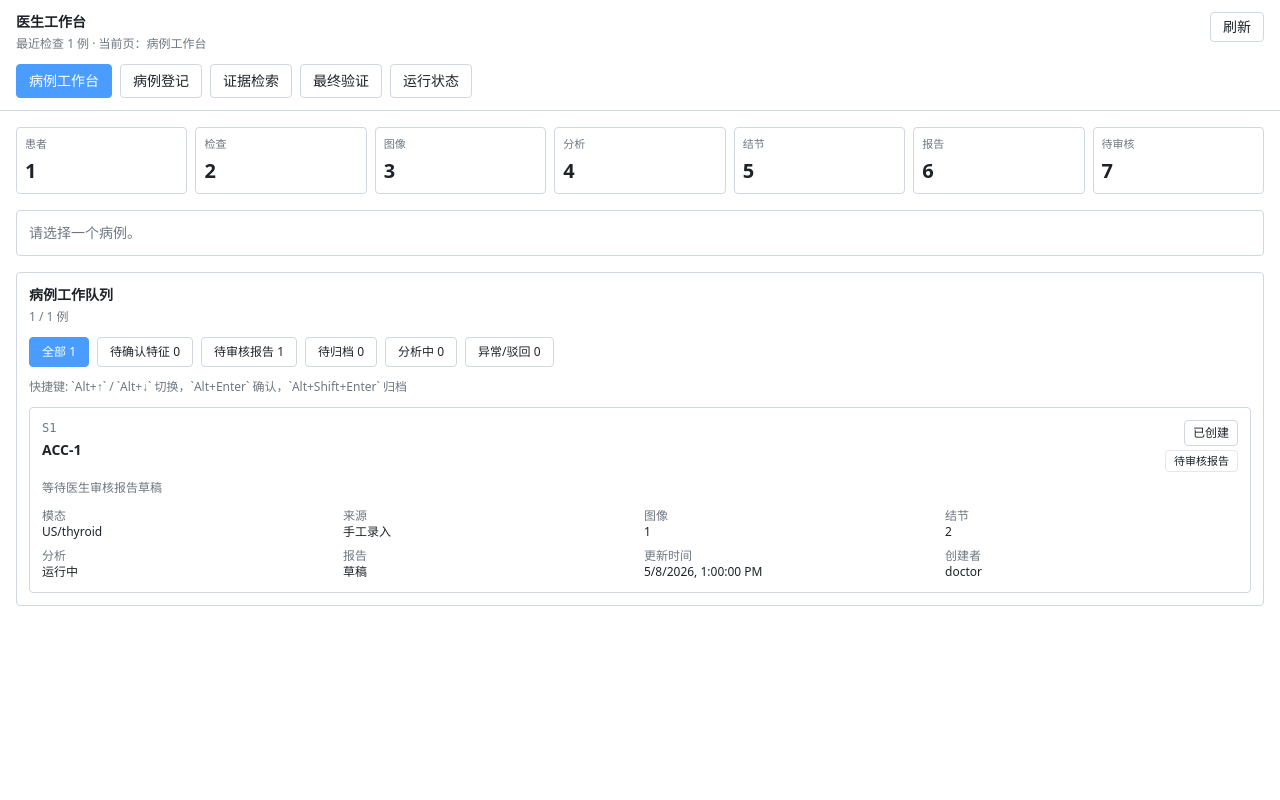
MedicalPanel › loads medical summary and shows counts, queues, and recent studies
The image size is (1280, 800).
Expected: the heading "医生工作台" is shown, x1=16 y1=12 x2=86 y2=31
Expected: the heading "病例工作队列" is shown, x1=29 y1=284 x2=113 y2=304
Step 1. Click the button "运行状态" → (431, 81), box x1=390 y1=64 x2=472 y2=98
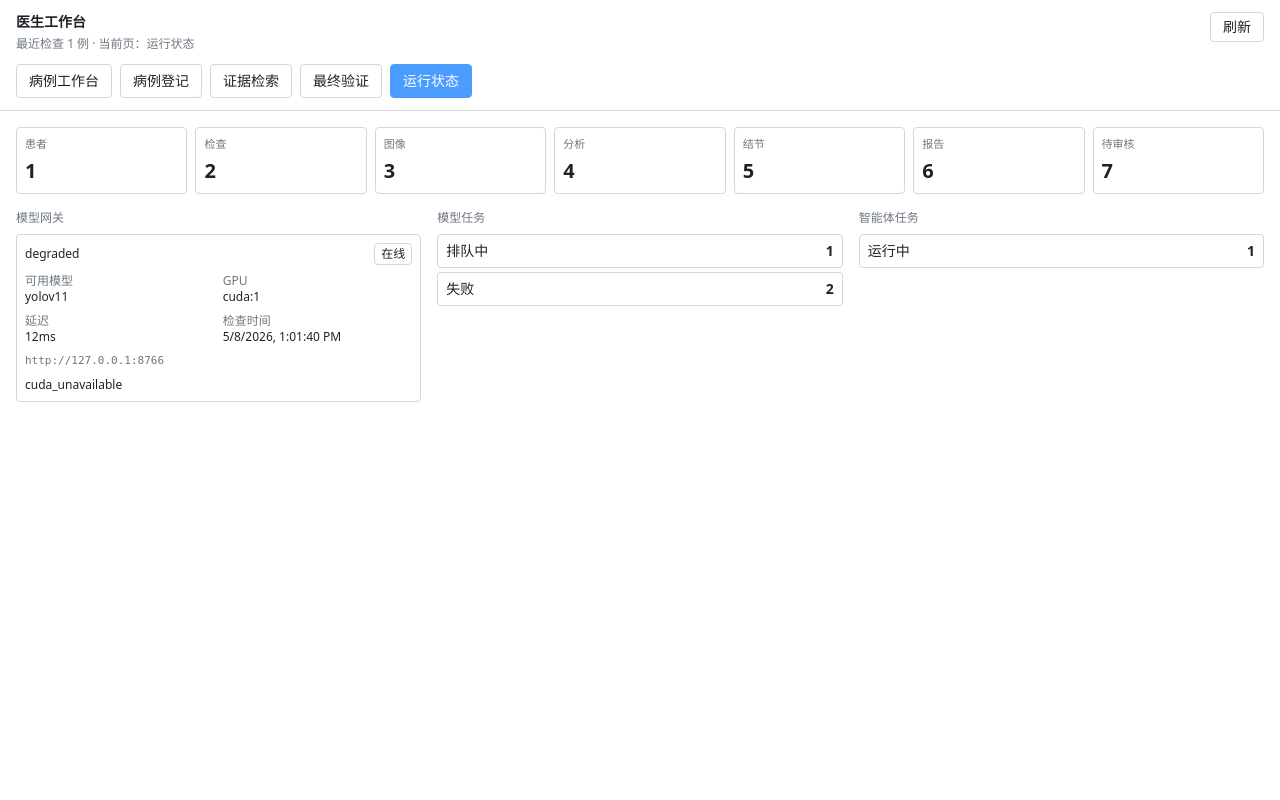
Expected: the heading "模型任务" is shown, x1=437 y1=208 x2=485 y2=226
Expected: the heading "智能体任务" is shown, x1=859 y1=208 x2=919 y2=226
Expected: the heading "模型网关" is shown, x1=16 y1=208 x2=64 y2=226
